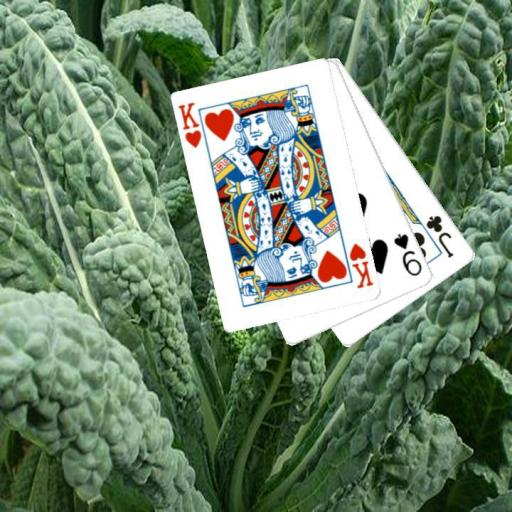9S: (390, 230, 424, 278)
JC: (423, 212, 456, 259)
KH: (347, 240, 376, 290), (176, 99, 204, 150)
